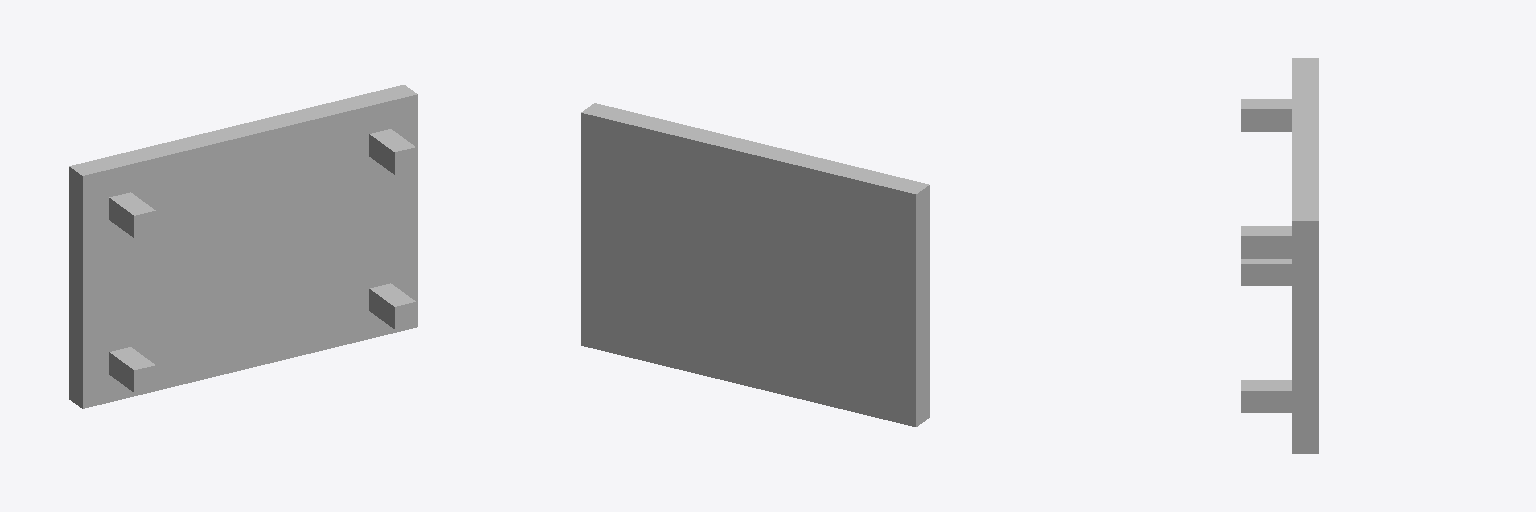
The model's file is random_table7.obj.
3 renders of one model, left to right at view 1: azimuth 30°, elevation 25°; view 2: azimuth 150°, elevation 25°; view 3: azimuth 270°, elevation 25°, orthographic.
Visible parts, largest first — view 1: Table_Cube.230, TableLeg3_Cube.234, TableLeg1_Cube.232, TableLeg0_Cube.231, TableLeg2_Cube.233; view 2: Table_Cube.230; view 3: Table_Cube.230, TableLeg0_Cube.231, TableLeg1_Cube.232, TableLeg2_Cube.233, TableLeg3_Cube.234.
Boxes of the visible parts, box(x1,y1,x2,y2) form: Table_Cube.230: box(69, 85, 417, 408); TableLeg3_Cube.234: box(109, 347, 155, 392); TableLeg1_Cube.232: box(109, 192, 155, 237); TableLeg0_Cube.231: box(369, 129, 415, 174); TableLeg2_Cube.233: box(369, 283, 415, 328); Table_Cube.230: box(581, 103, 929, 426); Table_Cube.230: box(1292, 58, 1318, 453); TableLeg0_Cube.231: box(1241, 226, 1291, 258); TableLeg1_Cube.232: box(1241, 99, 1291, 131); TableLeg2_Cube.233: box(1241, 380, 1291, 412); TableLeg3_Cube.234: box(1241, 259, 1291, 285).
Bounding box in the file's own units: 7.94 × 5.27 × 1.58.